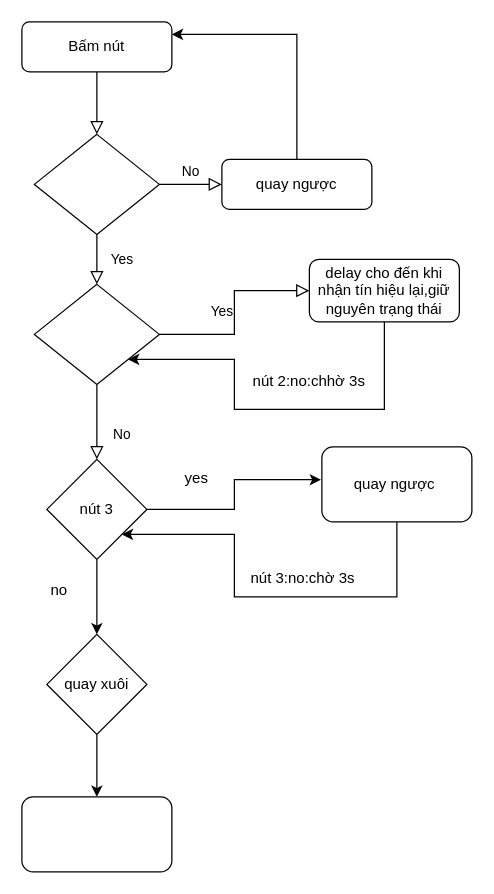
Image size: 494x894. Some labels were removed from this diagram. The shapes that lost their labels are listed below. From the top down, each one's box as (x1, y1, x2, y2) in pixels, then its label:
(33, 133, 159, 234): nút 1
(33, 283, 159, 384): nút 2
(21, 796, 172, 872): end
